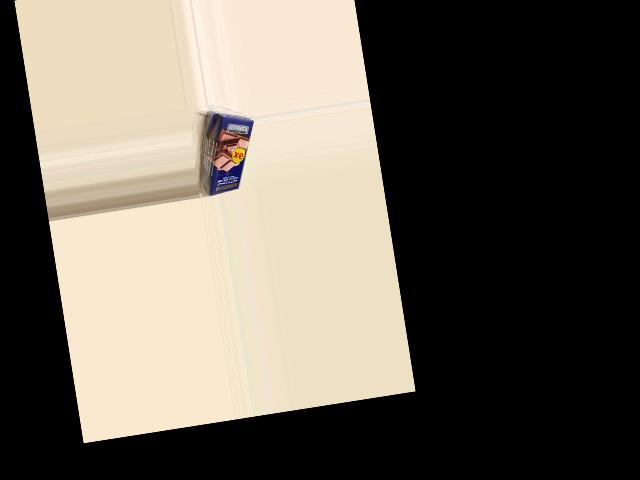chocolate: (192, 110, 265, 197)
